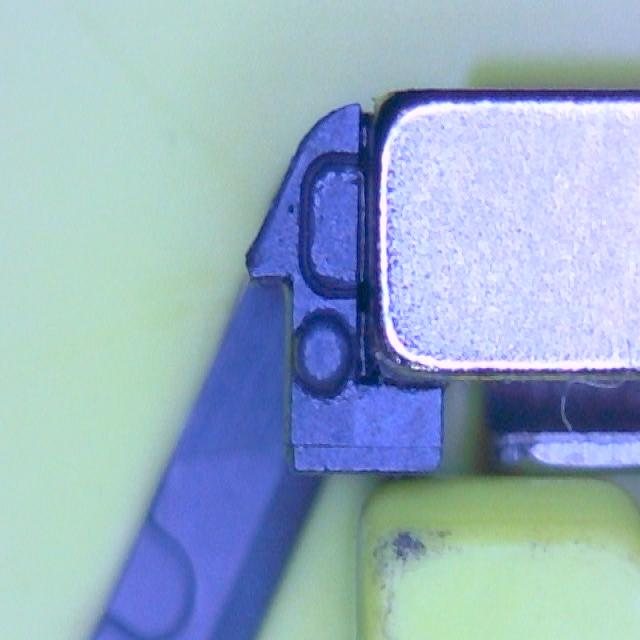lacking: (296, 148, 366, 302)
